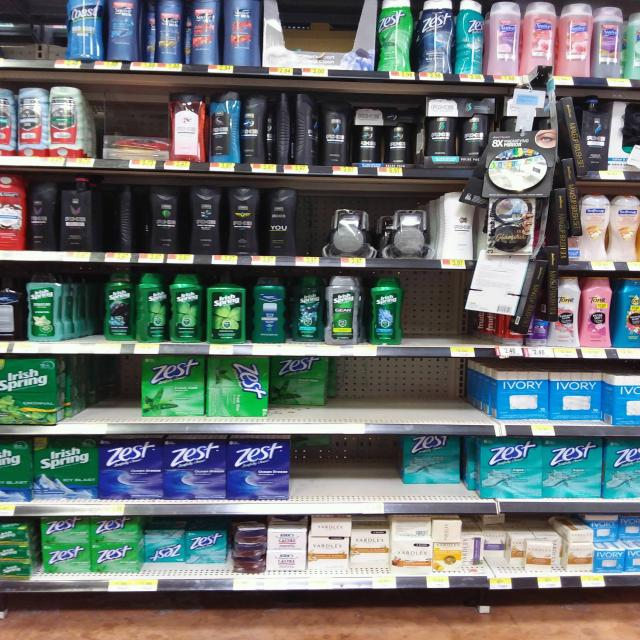void: (292, 436, 336, 514), (335, 360, 380, 433), (66, 265, 101, 355), (68, 360, 109, 433), (338, 439, 377, 514), (436, 277, 469, 358), (414, 358, 447, 434), (112, 358, 141, 435), (451, 360, 482, 432), (384, 358, 412, 434), (410, 270, 433, 358), (383, 438, 408, 516), (0, 2, 29, 69), (304, 184, 324, 269), (32, 1, 56, 70)
